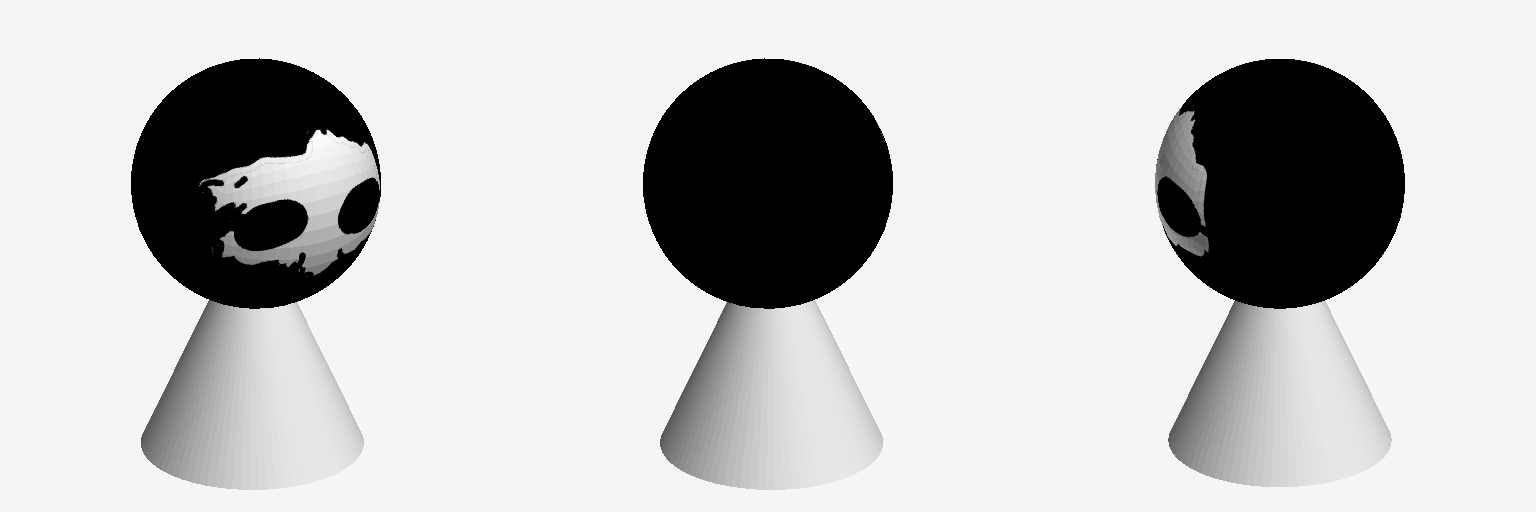
The picture shows the model from 3 angles: view 1: azimuth 30°, elevation 25°; view 2: azimuth 150°, elevation 25°; view 3: azimuth 270°, elevation 25°; orthographic projection.
Parts seen in each view (by area): view 1: obj1, obj2; view 2: obj1, obj2; view 3: obj1, obj2.
Part boxes in pixels (x1,y1,x2,y2): obj1: (131,58,380,308); obj2: (141,300,363,489); obj1: (643,58,892,308); obj2: (660,300,882,489); obj1: (1155,59,1404,308); obj2: (1168,301,1391,486).
Size of the model in its own units: 0.2 by 0.3275 by 0.2.
Materials: 2 (1 with a texture image).